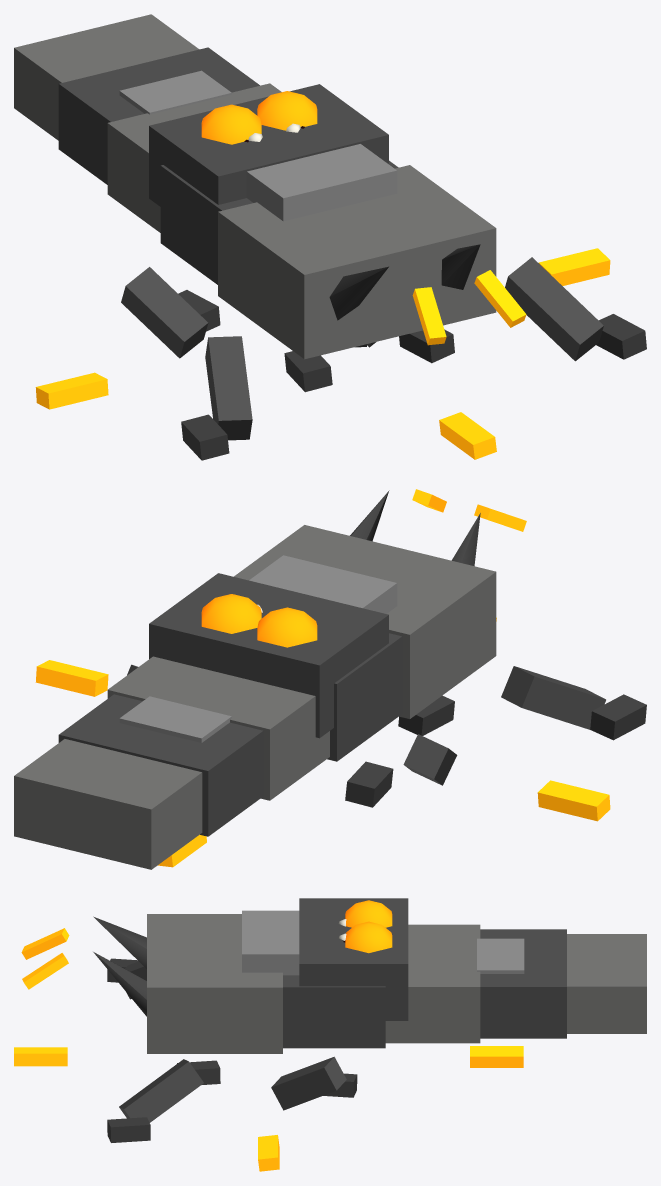
Rendered from DoodlebugSmallB.glb.
3 views of the same model, one above another, from view 1: azimuth 30°, elevation 25°; view 2: azimuth 150°, elevation 25°; view 3: azimuth 270°, elevation 25° (orthographic). The views are drawn at different scales.
Visible parts, largest first — view 1: DoodlebugSmallBody; view 2: DoodlebugSmallBody; view 3: DoodlebugSmallBody.
Boxes of the visible parts, x1=… form: DoodlebugSmallBody: x1=14, y1=14, x2=646, y2=460; DoodlebugSmallBody: x1=14, y1=489, x2=646, y2=869; DoodlebugSmallBody: x1=14, y1=898, x2=646, y2=1171.
Bounding box in the file's own units: 0.76 × 0.2483 × 0.9441.
